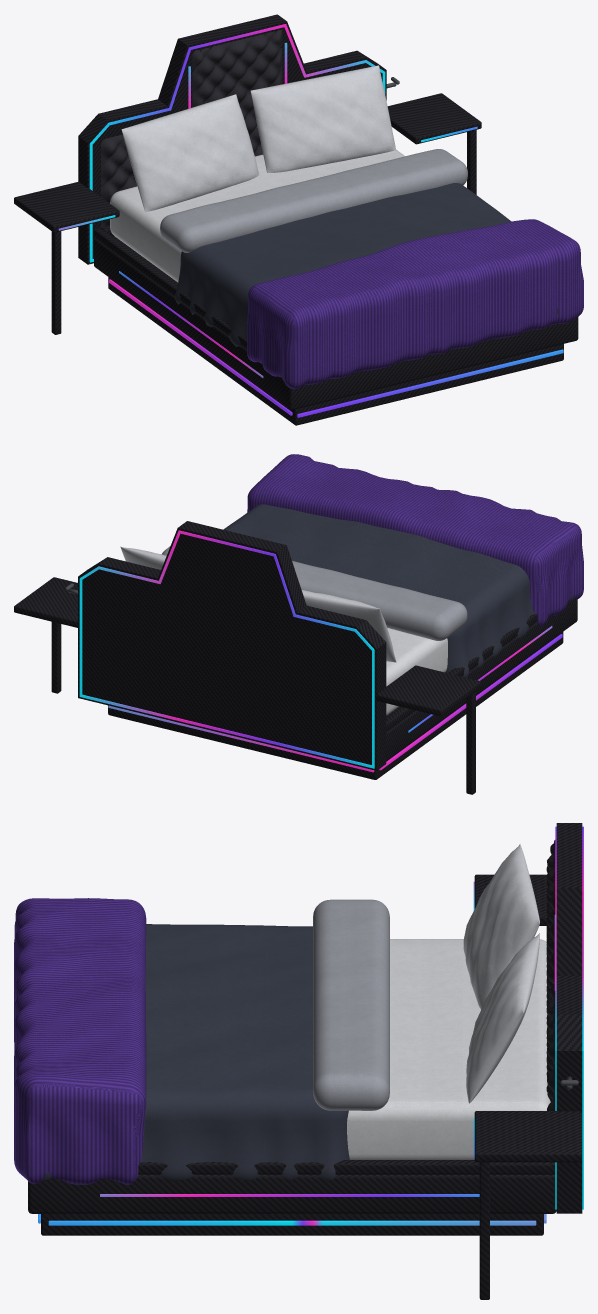
File: gaming_bed.glb
3 renders of one model, top to bottom at view 1: azimuth 30°, elevation 25°; view 2: azimuth 150°, elevation 25°; view 3: azimuth 270°, elevation 25°, orthographic. The views are drawn at different scales.
Visible parts, largest first — view 1: throw, duvet, frame_body, pillow_1, duvet_cuff, pillow_0, headboard_back, mattress, quilt_center, plinth, shelf_l, shelf_r (+7 smaller); view 2: headboard_back, throw, duvet, duvet_cuff, frame_body, plinth, shelf_l, led_head_back, mattress, shelf_r, pillow_0, shelf_leg_l (+5 smaller); view 3: duvet, throw, mattress, frame_body, duvet_cuff, headboard_back, plinth, pillow_0, shelf_r, pillow_1, rim_right, led_under_r (+7 smaller).
Part boxes in pixels (left/top/right/bottom): throw: left=247, top=219, right=583, bottom=389; duvet: left=175, top=183, right=558, bottom=381; frame_body: left=94, top=236, right=578, bottom=410; pillow_1: left=250, top=65, right=396, bottom=172; duvet_cuff: left=160, top=149, right=467, bottom=252; pillow_0: left=121, top=94, right=259, bottom=212; headboard_back: left=78, top=14, right=386, bottom=264; mattress: left=110, top=149, right=404, bottom=282; quilt_center: left=192, top=29, right=282, bottom=156; plinth: left=108, top=277, right=563, bottom=425; shelf_l: left=14, top=181, right=119, bottom=232; shelf_r: left=387, top=93, right=481, bottom=144; headboard_back: left=78, top=521, right=386, bottom=770; throw: left=247, top=454, right=583, bottom=626; duvet: left=223, top=504, right=573, bottom=677; duvet_cuff: left=162, top=546, right=467, bottom=640; frame_body: left=386, top=599, right=577, bottom=760; plinth: left=108, top=632, right=563, bottom=779; shelf_l: left=376, top=665, right=481, bottom=716; led_head_back: left=79, top=530, right=374, bottom=768; mattress: left=386, top=628, right=447, bottom=715; shelf_r: left=14, top=577, right=77, bottom=627; pillow_0: left=301, top=590, right=396, bottom=662; shelf_leg_l: left=466, top=691, right=475, bottom=794; duvet: left=43, top=924, right=349, bottom=1181; throw: left=14, top=898, right=146, bottom=1184; mattress: left=347, top=939, right=550, bottom=1159; frame_body: left=28, top=1174, right=556, bottom=1213; duvet_cuff: left=313, top=899, right=389, bottom=1110; headboard_back: left=556, top=823, right=582, bottom=1213; plinth: left=41, top=1214, right=543, bottom=1235; pillow_0: left=463, top=844, right=539, bottom=1009; shelf_r: left=474, top=1111, right=582, bottom=1162; pillow_1: left=466, top=933, right=539, bottom=1103; rim_right: left=138, top=1160, right=555, bottom=1174; led_under_r: left=48, top=1220, right=536, bottom=1225.
Size of the model in its own units: 2.58 by 1.32 by 2.22.
9 materials, 8 textured.
